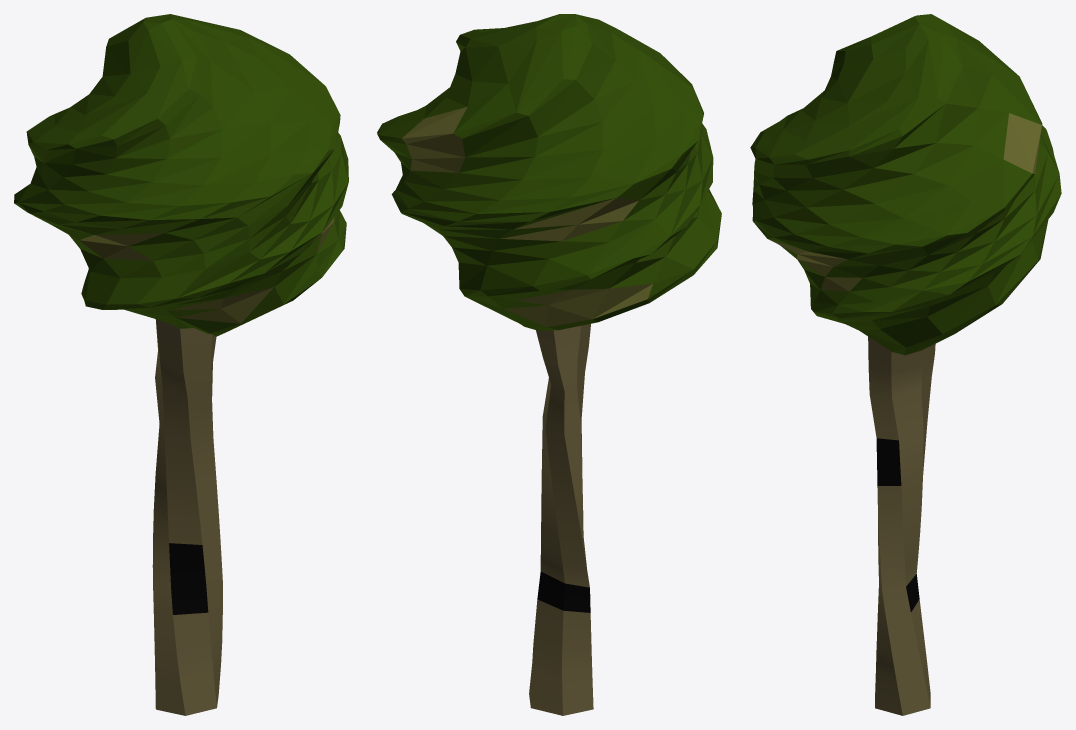
The model's file is tree_3.fbx.
The picture shows the model from 3 angles, left to right: view 1: azimuth 30°, elevation 25°; view 2: azimuth 150°, elevation 25°; view 3: azimuth 270°, elevation 25°; orthographic projection. The views are drawn at different scales.
Parts seen in each view (by area): view 1: pCylinder6; view 2: pCylinder6; view 3: pCylinder6.
Part boxes in pixels (x1,y1,x2,y2): pCylinder6: (14,14,348,715); pCylinder6: (377,14,721,715); pCylinder6: (750,14,1061,715).
Bounding box in the file's own units: 2.44 × 5.4 × 2.26.
